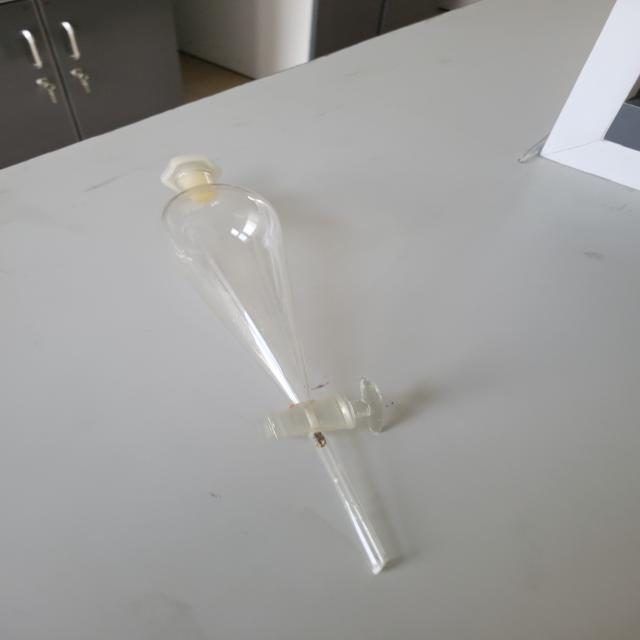Separating_Funnel: (112, 137, 476, 603)
